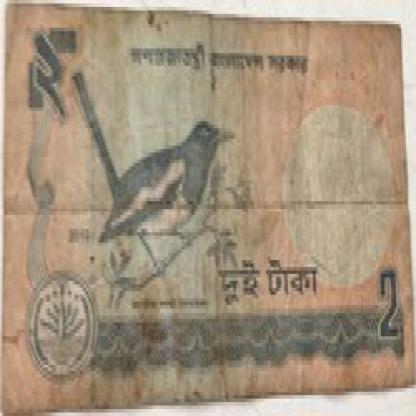two taka: (214, 253, 330, 312), (25, 24, 80, 132)
